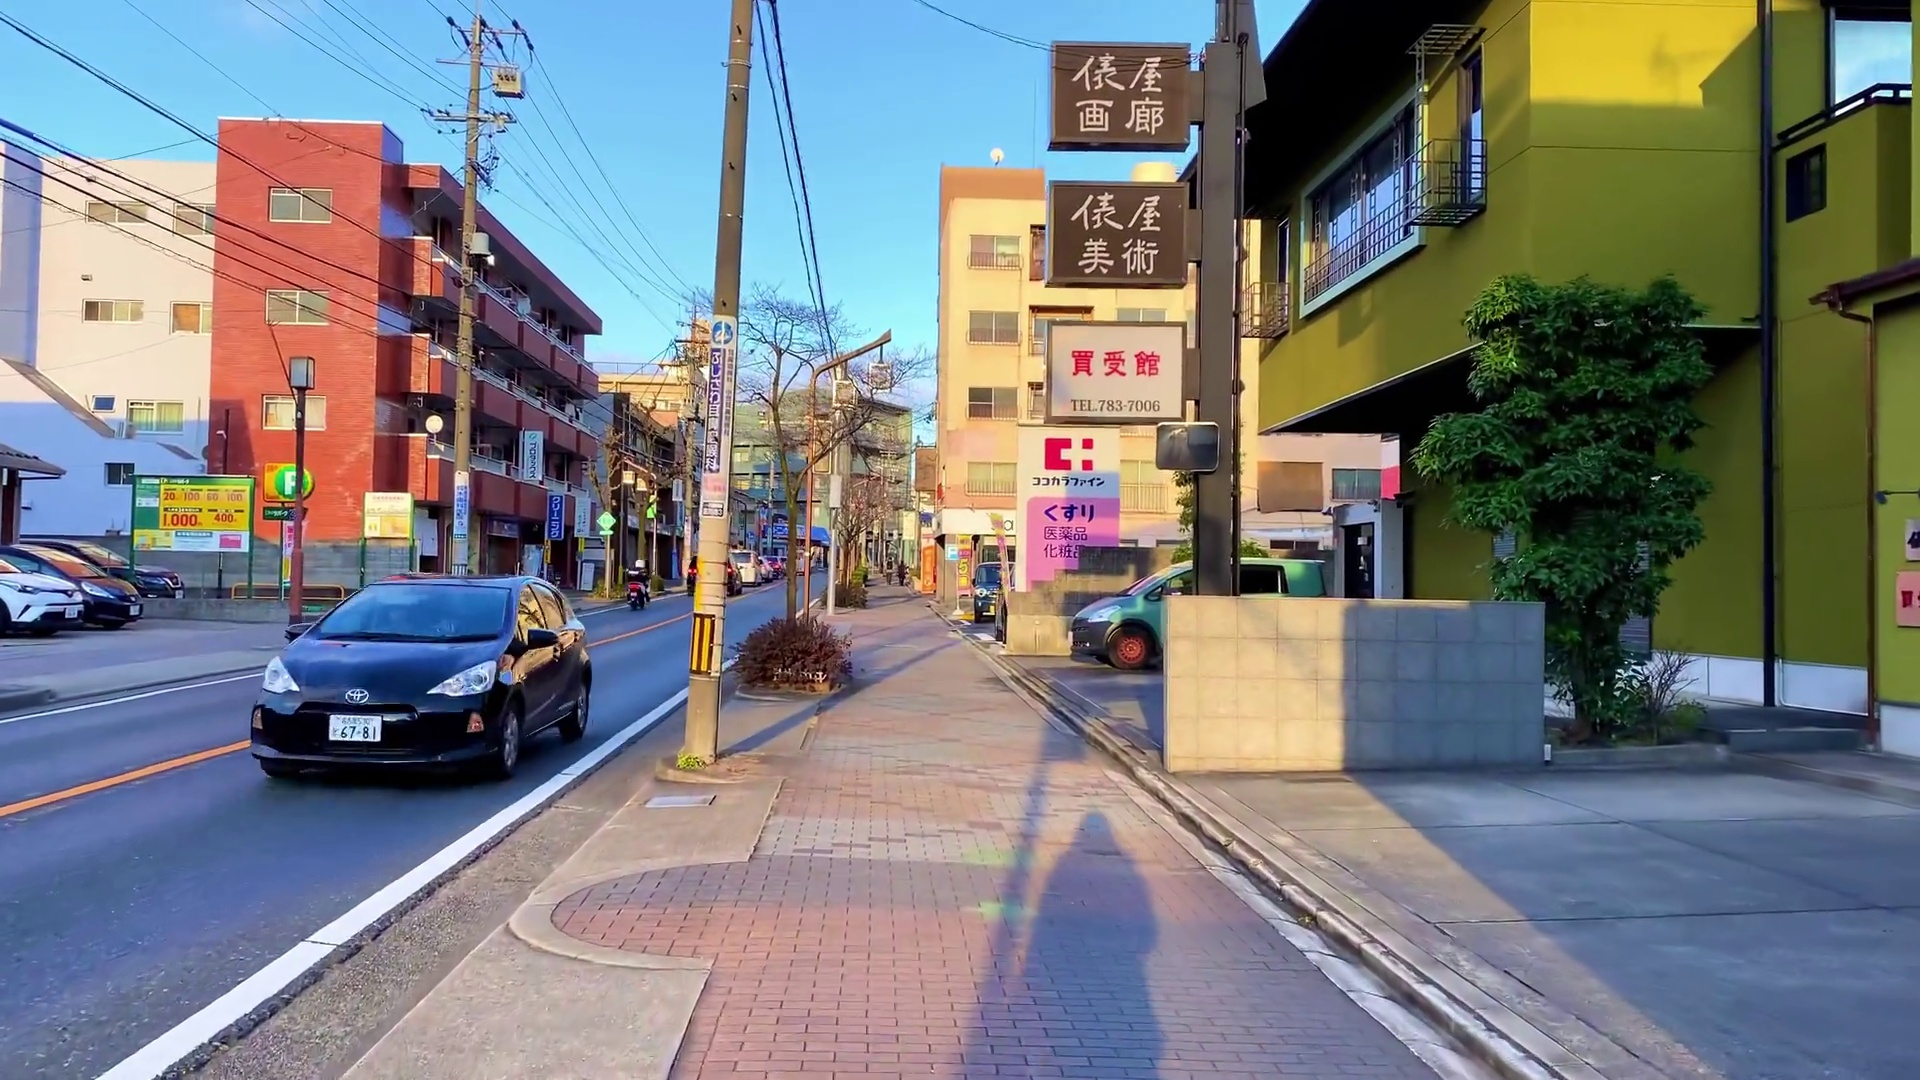car: (248, 574, 597, 778)
